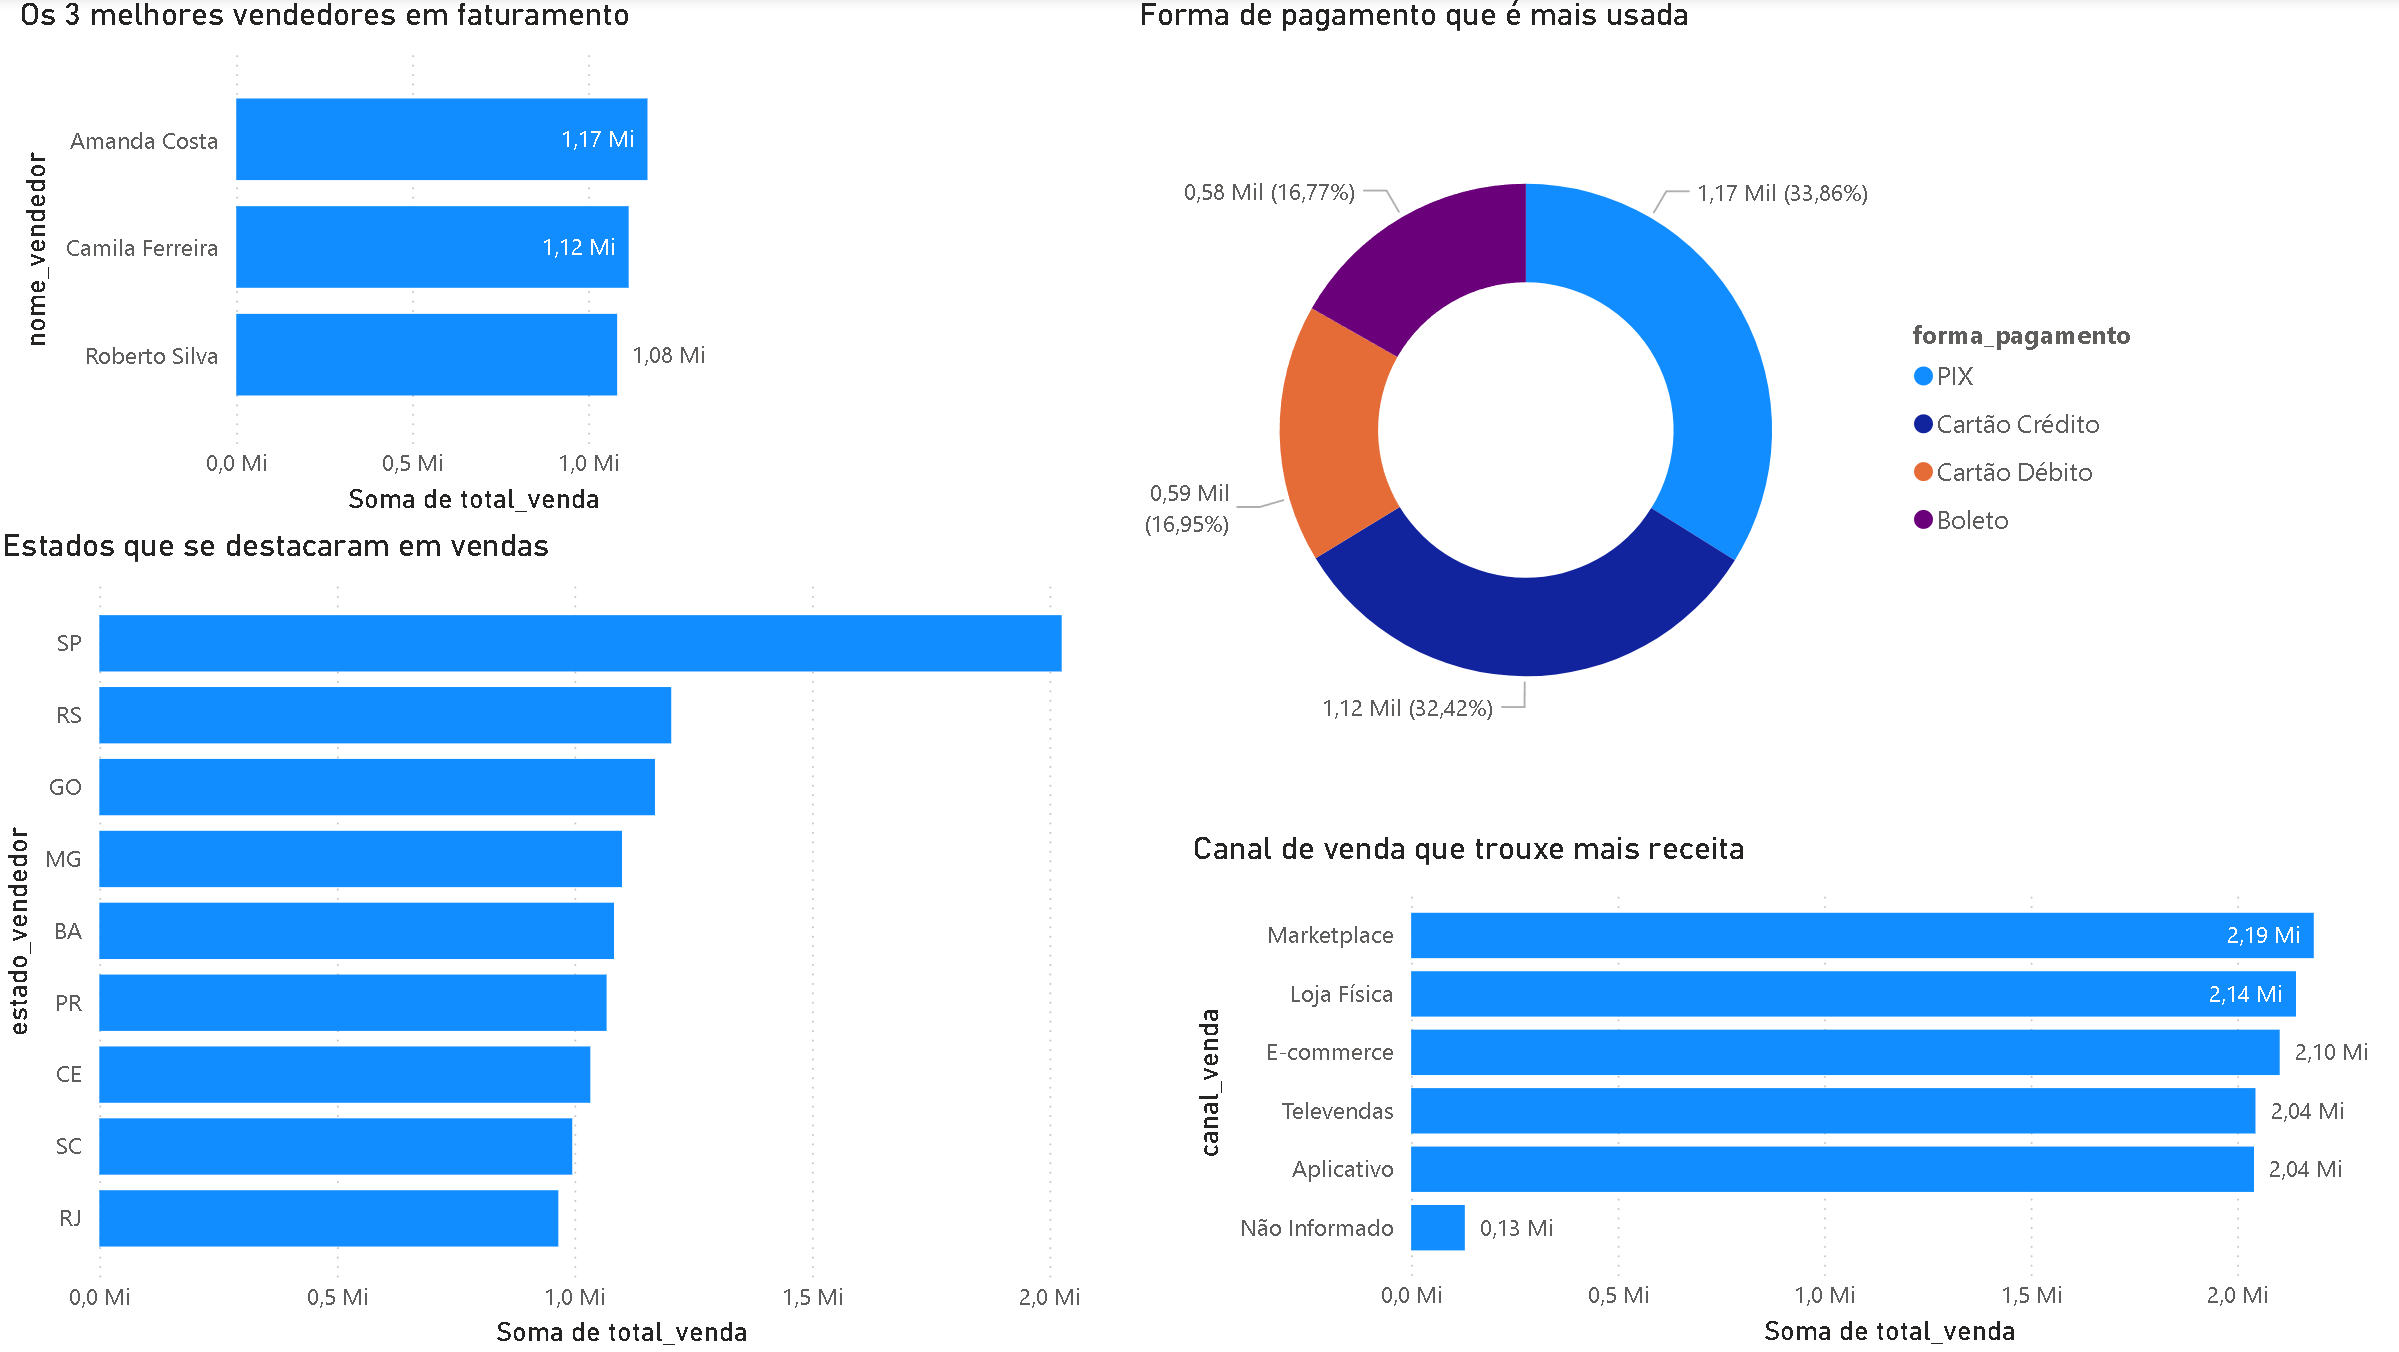

The dashboard page shown, as its layout file describes it:
{"tool":"powerbi","page":{"name":"Página 2","canvas":[1280,720],"ordinal":1},"visuals":[{"type":"clusteredBarChart","title":"Os 3 melhores vendedores em faturamento","fields":{"Category":["vendas_limpa2.nome_vendedor"],"Y":["Sum(vendas_limpa2.total_venda)"]},"box":[9.5,0,392.6,279.7],"z":0},{"type":"clusteredBarChart","title":"Estados que se destacaram em vendas","fields":{"Category":["vendas_limpa2.estado_vendedor"],"Y":["Sum(vendas_limpa2.total_venda)"]},"box":[0,280.7,631,439.9],"z":1000},{"type":"clusteredBarChart","title":"Canal de venda que trouxe mais receita","fields":{"Category":["vendas_limpa2.canal_venda"],"Y":["Sum(vendas_limpa2.total_venda)"]},"box":[631,441.9,649,278.7],"z":2000},{"type":"donutChart","title":"Forma de pagamento que é mais usada","fields":{"Category":["vendas_limpa2.forma_pagamento"],"Y":["CountNonNull(vendas_limpa2.forma_pagamento)"]},"box":[603.2,0,549.4,441.9],"z":3000}]}

Visuals, with their boxes in screenshot pixels (x1, y1, x2, y2), scaled from the page's 1280x720 canvas onto the 2399x1352 screenshot:
"Os 3 melhores vendedores em faturamento" clusteredBarChart: left=18, top=0, right=754, bottom=525
"Estados que se destacaram em vendas" clusteredBarChart: left=0, top=527, right=1183, bottom=1351
"Canal de venda que trouxe mais receita" clusteredBarChart: left=1183, top=830, right=2398, bottom=1351
"Forma de pagamento que é mais usada" donutChart: left=1131, top=0, right=2160, bottom=830
